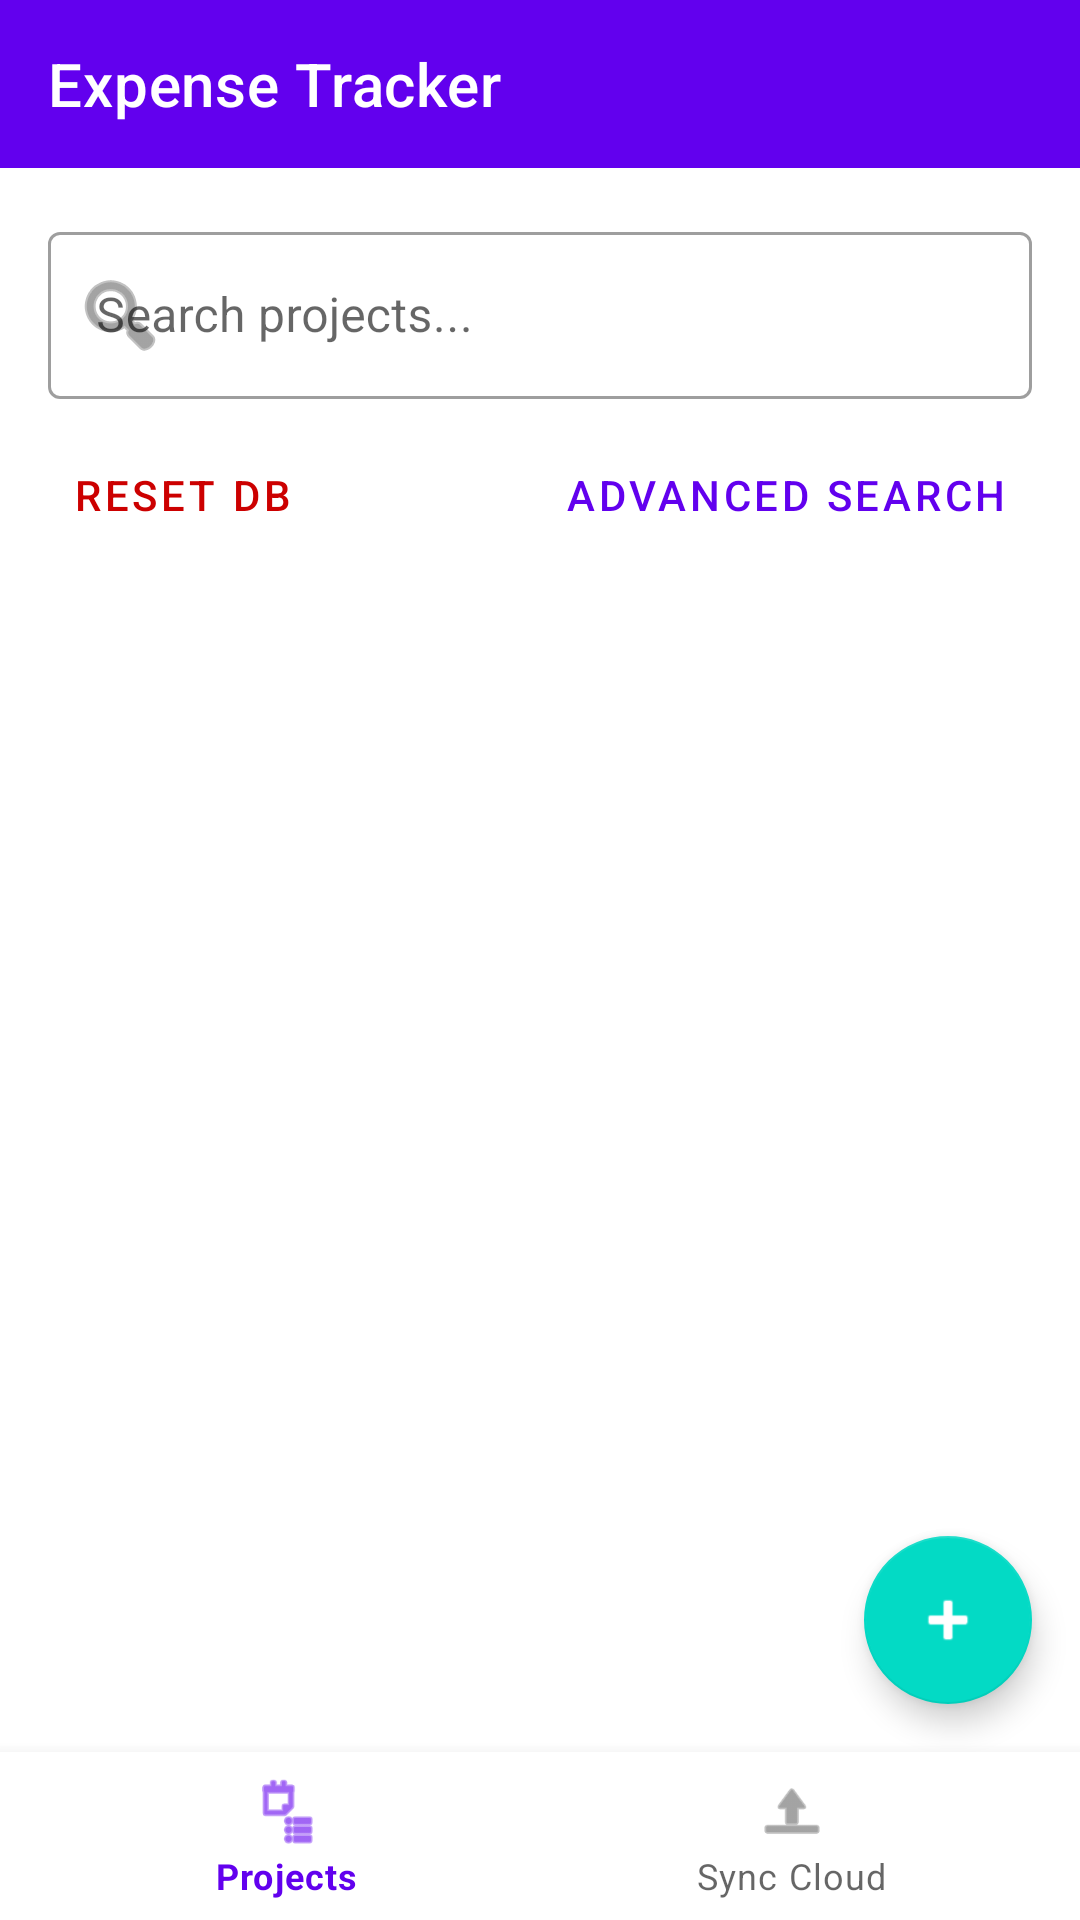

Icon bounding boxes for this 1080px x 1920px phone screenshot, format Rect(x1, y1, x2, y2):
add: Rect(864, 1536, 1032, 1704)
